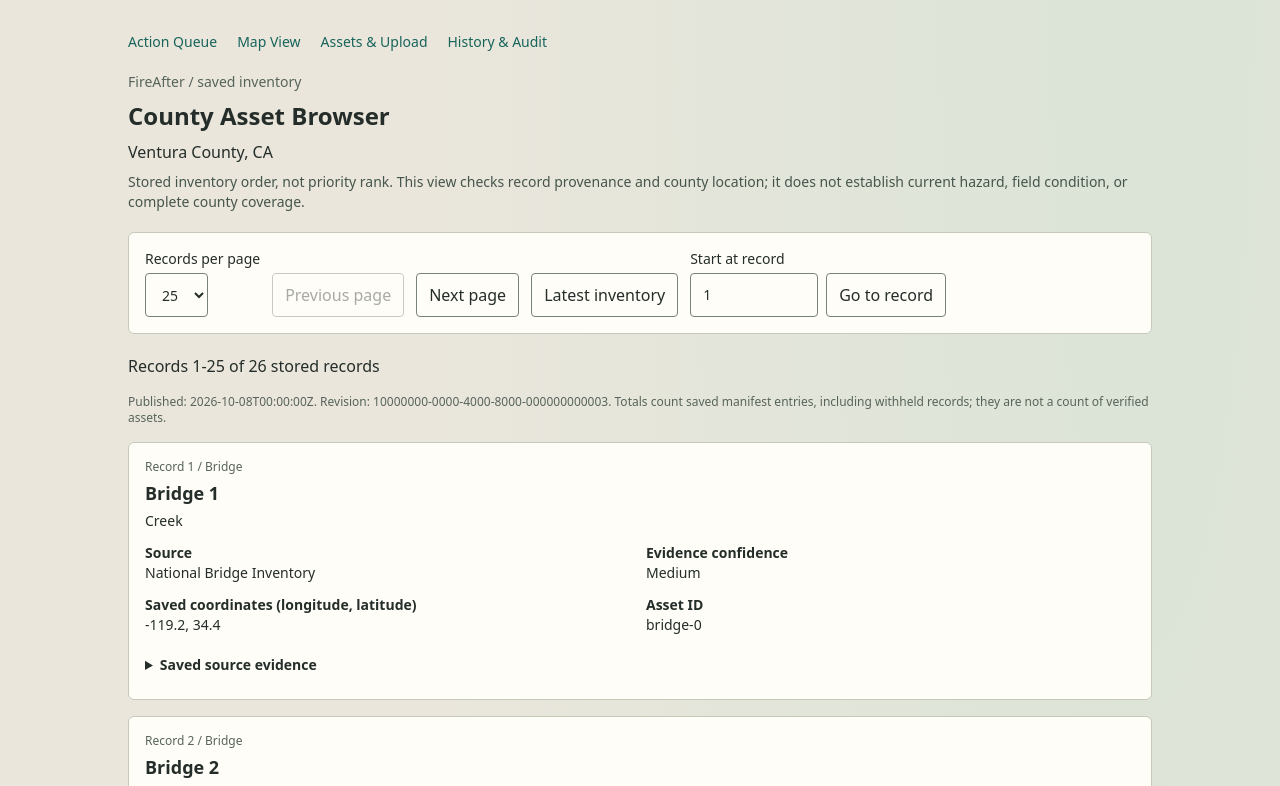
Test: keeps incident scope, page order and published revision across next/previous/jump
The image size is (1280, 786).
Expected: the heading "Bridge 1" is shown, [145,481,219,505]
Click the button "Next page": x=468, y=295 [416,273,519,317]
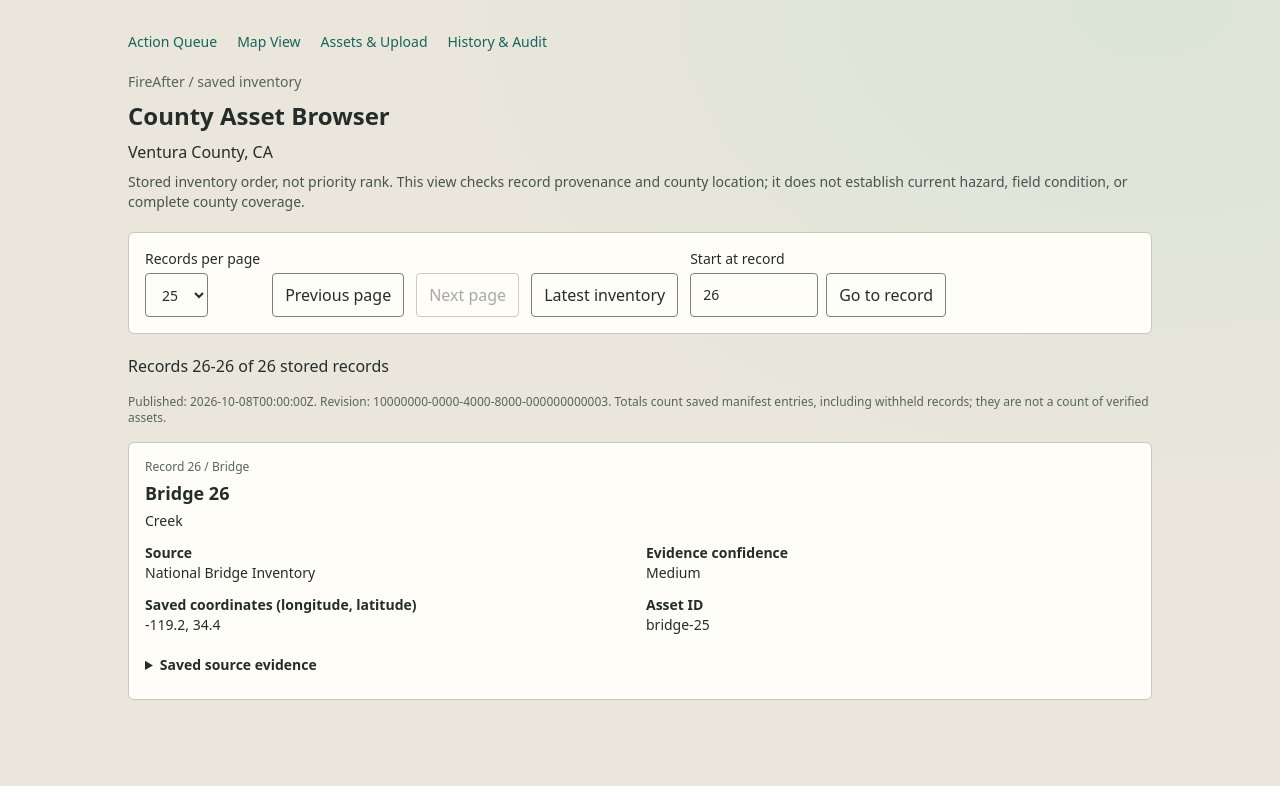
Expected: the heading "Bridge 26" is shown, [145,481,230,505]
Expected: the button "Next page" is disabled, [416,273,519,317]
Click the button "Previous page": x=338, y=295 [272,273,404,317]
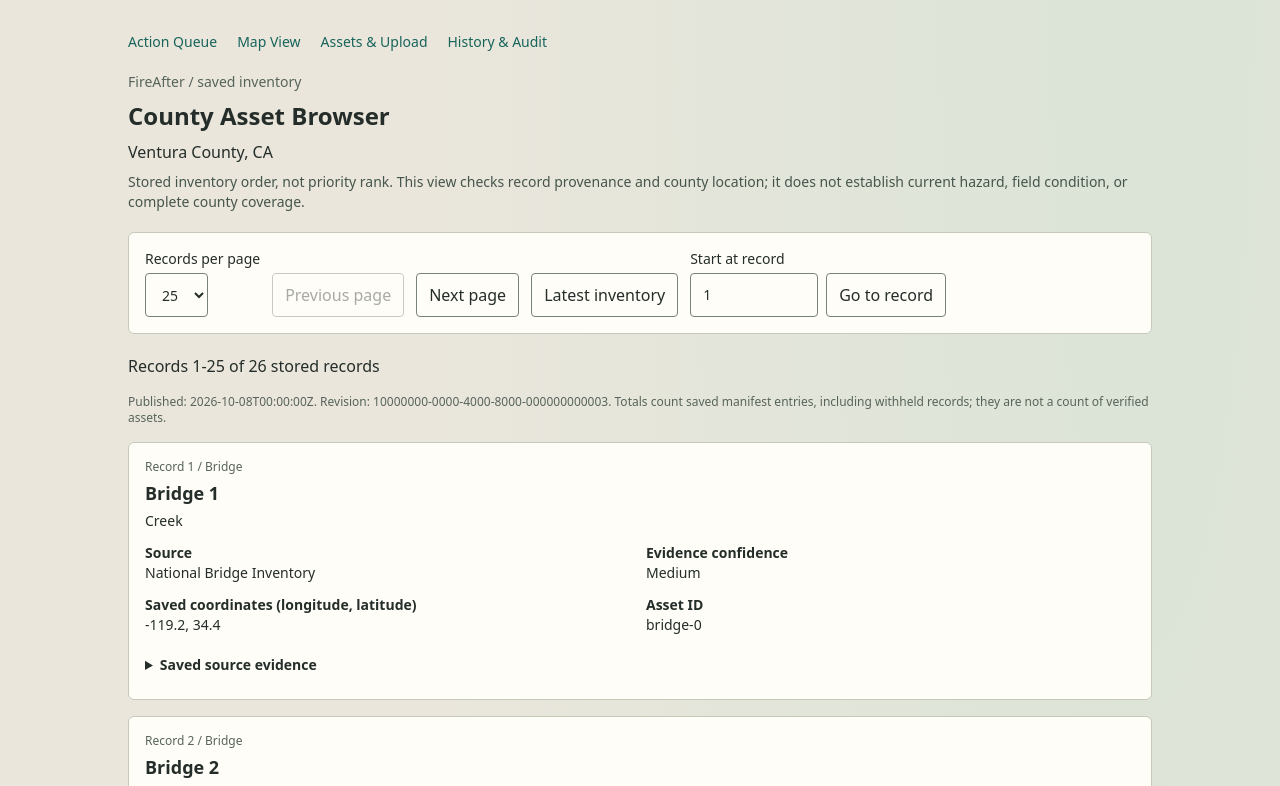
Expected: the heading "Bridge 1" is shown, [145,481,219,505]
Replace the text in the field labelled "Start at record" with "26": x=754, y=295 [690,273,818,317]
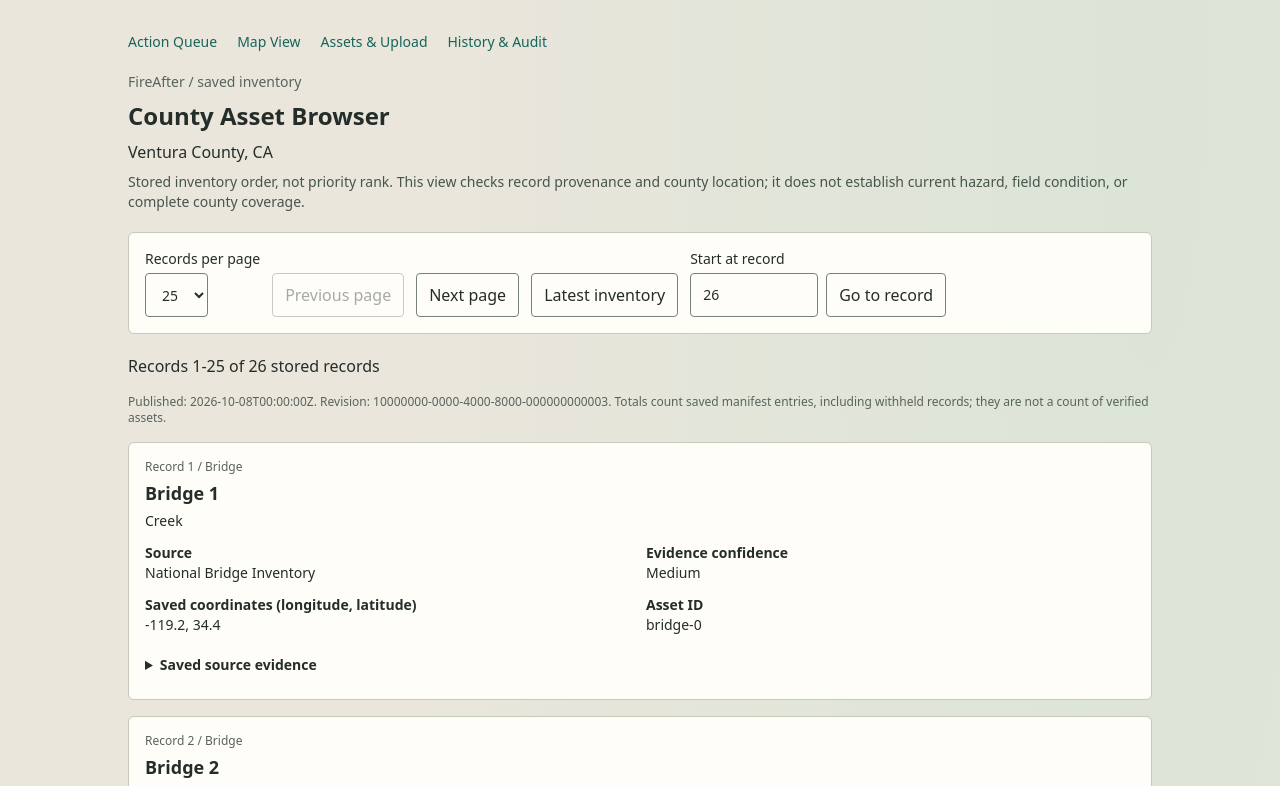
Click the button "Go to record": x=886, y=295 [826,273,946,317]
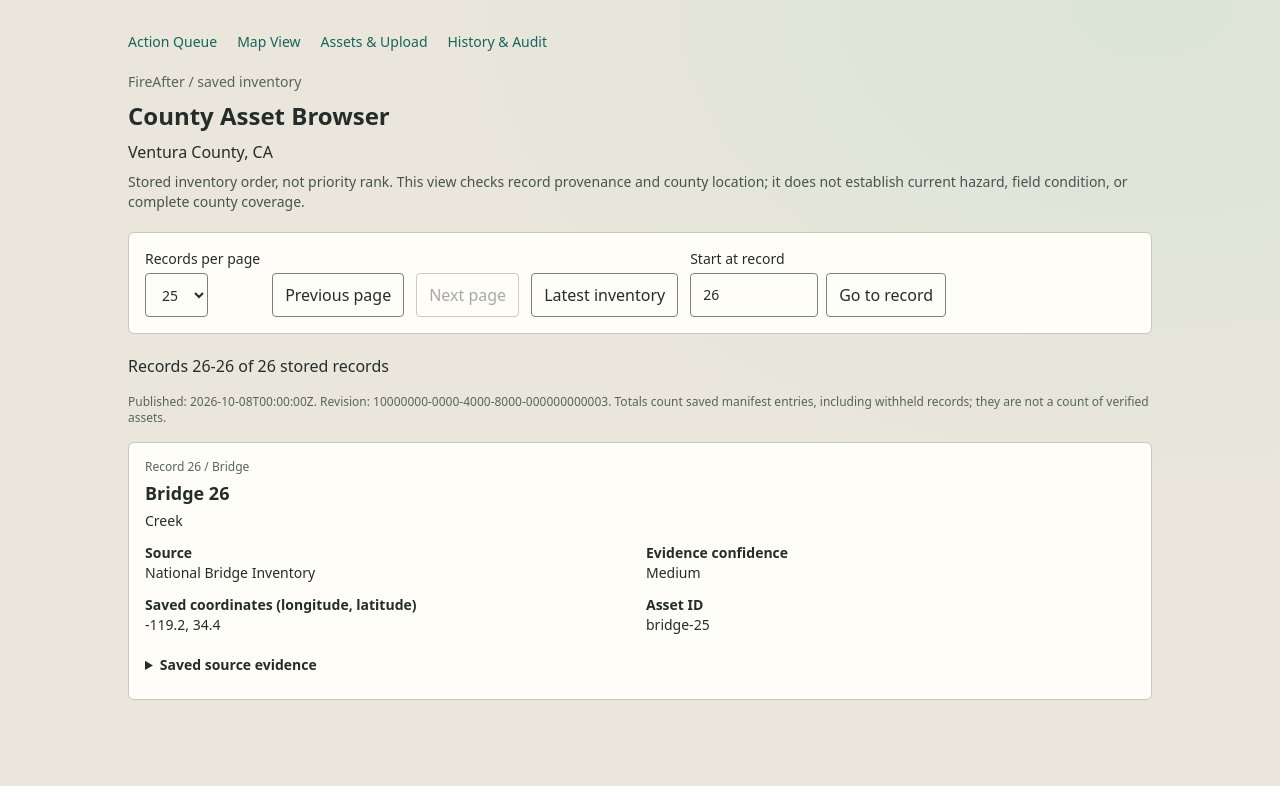
Expected: the heading "Bridge 26" is shown, [145,481,230,505]
Click the button "Latest inventory": x=605, y=295 [531,273,678,317]
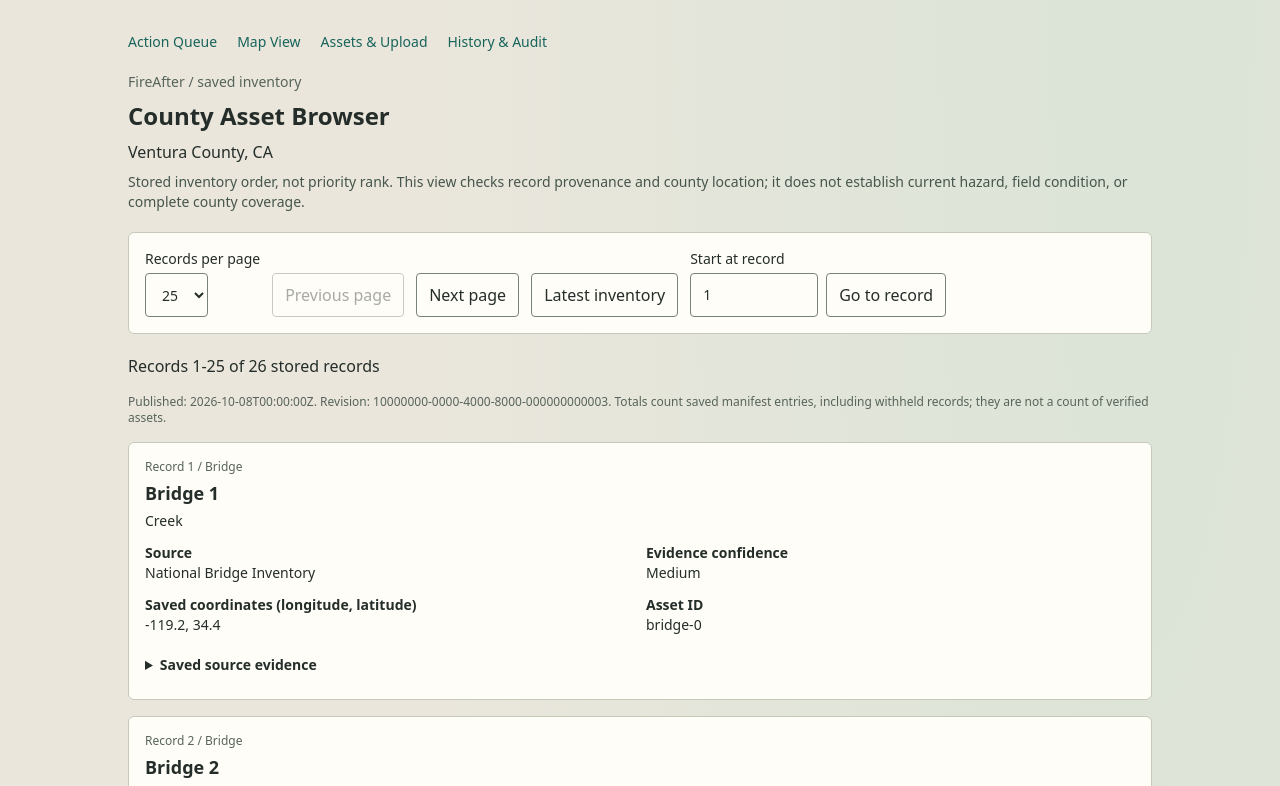
Expected: the heading "Bridge 1" is shown, [145,481,219,505]
